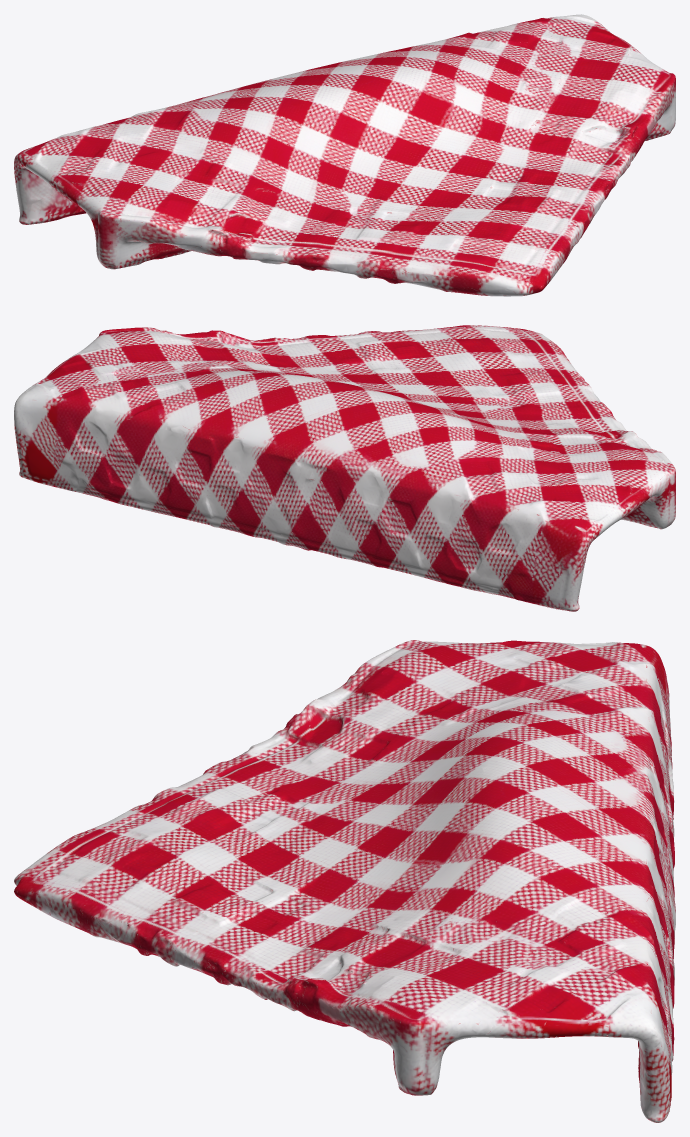
The model's file is raw.glb.
3 renders of one model, top to bottom at view 1: azimuth 30°, elevation 25°; view 2: azimuth 150°, elevation 25°; view 3: azimuth 270°, elevation 25°, orthographic. The views are drawn at different scales.
Visible parts, largest first — view 1: Mesh_0; view 2: Mesh_0; view 3: Mesh_0.
Part boxes in pixels (bbox=[...]): Mesh_0: bbox=[14, 14, 675, 296]; Mesh_0: bbox=[14, 325, 675, 611]; Mesh_0: bbox=[14, 640, 675, 1122].
Size of the model in its own units: 1.91 by 0.3678 by 1.39.
Materials: 1 (1 with a texture image).
